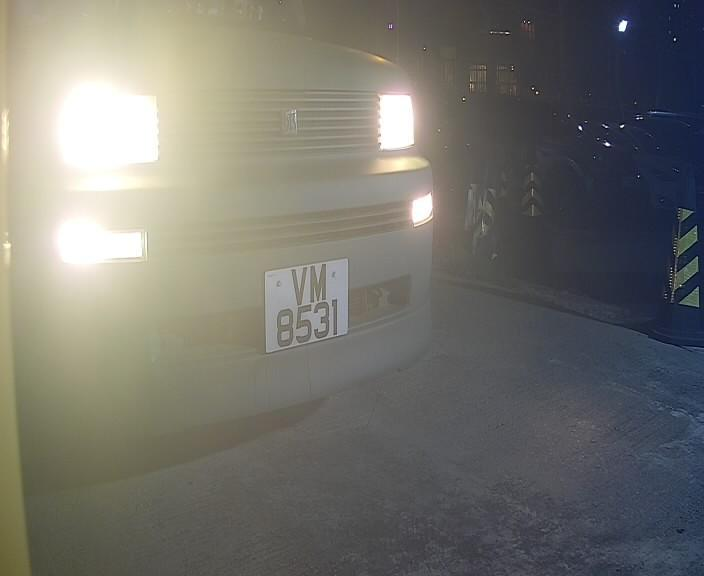Car: (13, 19, 541, 463)
License Plate: (255, 240, 356, 361)
